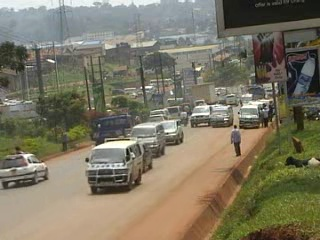Car: (0, 151, 50, 188), (155, 117, 186, 146), (188, 103, 214, 127), (138, 137, 154, 173), (146, 111, 169, 123), (178, 100, 192, 115), (191, 97, 206, 108)
Motorcycle: (178, 107, 189, 127)
